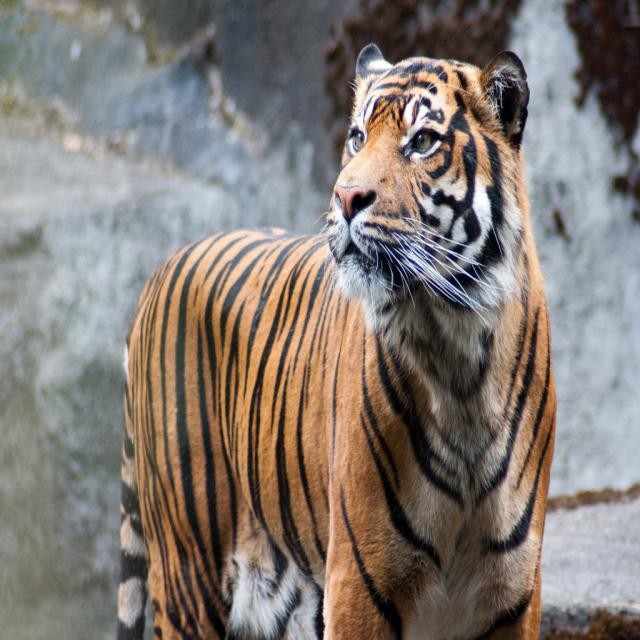Tiger: (114, 38, 557, 639)
